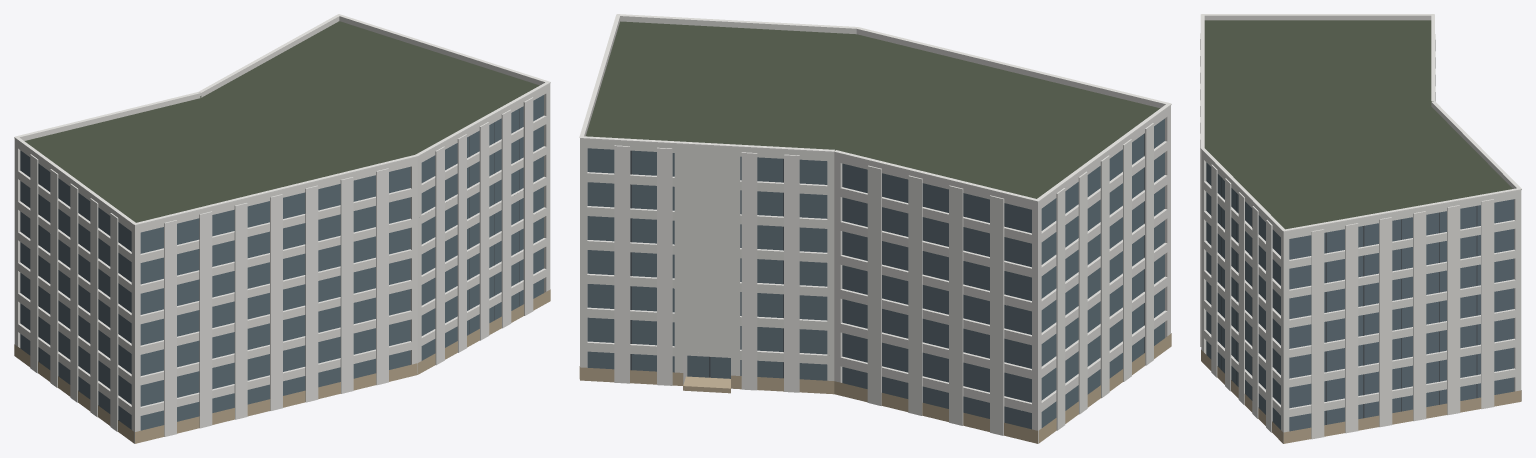
The picture shows the model from 3 angles, left to right: view 1: azimuth 30°, elevation 25°; view 2: azimuth 150°, elevation 25°; view 3: azimuth 270°, elevation 25°; orthographic projection. The views are drawn at different scales.
Visible parts, largest first — view 1: eh304__glass, eh304__roof, eh304__trim, eh304__wall, eh304__parapet, eh304__base, eh304__frame; view 2: eh304__roof, eh304__glass, eh304__wall, eh304__trim, eh304__parapet, eh304__base, eh304__frame; view 3: eh304__roof, eh304__trim, eh304__glass, eh304__wall, eh304__parapet, eh304__base, eh304__frame.
Part boxes in pixels (x1,y1,x2,y2): eh304__glass: (20, 95, 543, 430); eh304__roof: (24, 21, 539, 222); eh304__trim: (14, 14, 550, 436); eh304__wall: (14, 87, 550, 443); eh304__parapet: (14, 16, 550, 229); eh304__base: (14, 289, 550, 443); eh304__frame: (38, 108, 519, 361); eh304__roof: (586, 21, 1159, 198); eh304__glass: (587, 118, 1164, 429); eh304__wall: (580, 109, 1170, 443); eh304__trim: (579, 14, 1171, 435); eh304__parapet: (580, 16, 1170, 206); eh304__base: (579, 333, 1171, 443); eh304__frame: (630, 133, 1144, 378); eh304__roof: (1204, 20, 1512, 373); eh304__trim: (1200, 14, 1521, 439); eh304__glass: (1206, 162, 1514, 431); eh304__wall: (1201, 153, 1521, 443); eh304__parapet: (1201, 15, 1521, 235); eh304__base: (1201, 350, 1521, 443); eh304__frame: (1221, 177, 1477, 424).
Size of the model in its own units: 48.72 by 22.6 by 30.44.
